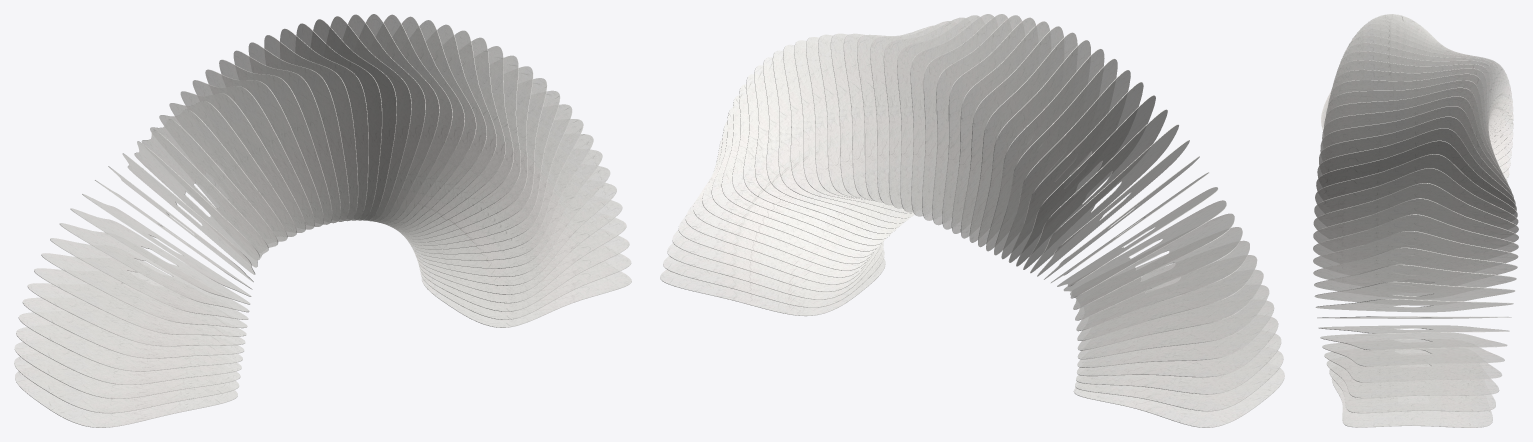
The model's file is screen007.glb.
3 views of the same model, side by side, from view 1: azimuth 30°, elevation 25°; view 2: azimuth 150°, elevation 25°; view 3: azimuth 270°, elevation 25° (orthographic). The views are drawn at different scales.
Visible parts, largest first — view 1: [0]; view 2: [0]; view 3: [0].
Boxes of the visible parts, x1=… form: [0]: x1=14, y1=14, x2=631, y2=427; [0]: x1=660, y1=14, x2=1284, y2=427; [0]: x1=1313, y1=14, x2=1518, y2=427.
Size of the model in its own units: 12.5 by 6.24 by 4.42.
Materials: 1 (1 with a texture image).
